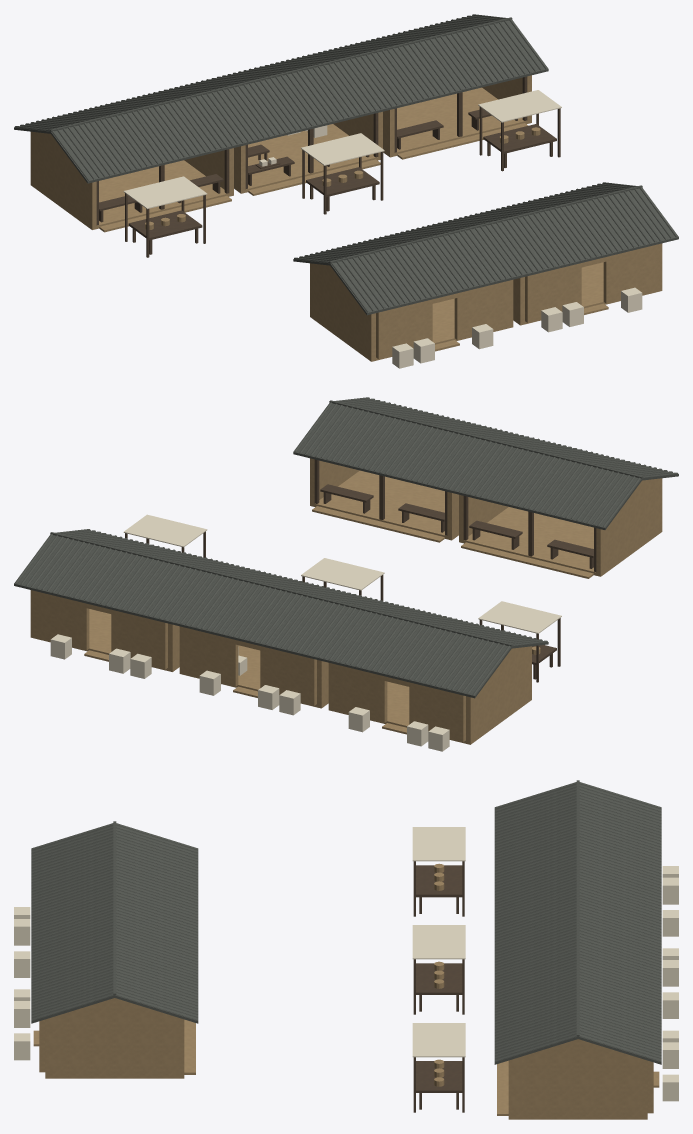
The model's file is market-LOD0.glb.
3 renders of one model, top to bottom at view 1: azimuth 30°, elevation 25°; view 2: azimuth 150°, elevation 25°; view 3: azimuth 270°, elevation 25°, orthographic. The views are drawn at different scales.
Visible parts, largest first — view 1: market-static_tile, market-static_earth, market-static_timber, market-static_paper; view 2: market-static_tile, market-static_earth, market-static_paper, market-static_timber; view 3: market-static_tile, market-static_earth, market-static_paper, market-static_timber.
Part boxes in pixels (x1,y1,x2,y2): market-static_tile: [14, 14, 678, 315]; market-static_earth: [30, 75, 662, 361]; market-static_timber: [96, 76, 560, 257]; market-static_paper: [123, 90, 642, 368]; market-static_tile: [14, 397, 678, 698]; market-static_earth: [30, 458, 662, 744]; market-static_paper: [50, 514, 561, 751]; market-static_timber: [125, 459, 596, 682]; market-static_tile: [31, 780, 661, 1064]; market-static_earth: [33, 863, 659, 1119]; market-static_paper: [14, 827, 678, 1101]; market-static_timber: [413, 861, 464, 1112].
Size of the model in its own units: 26 by 4.33 by 28.7.
4 materials, 3 textured.
